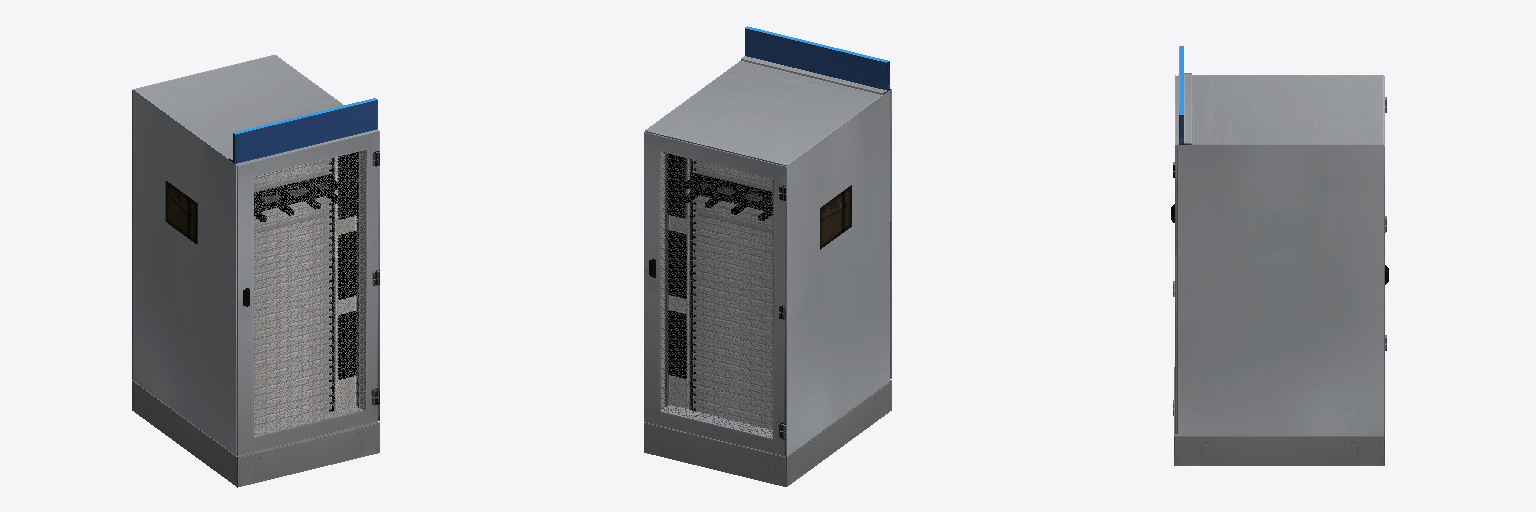
The picture shows the model from 3 angles: view 1: azimuth 30°, elevation 25°; view 2: azimuth 150°, elevation 25°; view 3: azimuth 270°, elevation 25°; orthographic projection.
Parts seen in each view (by area): view 1: SET8mainA_all; view 2: SET8mainA_all; view 3: SET8mainA_all.
Part boxes in pixels (x1,y1,x2,y2): SET8mainA_all: (132, 55, 379, 487); SET8mainA_all: (644, 26, 891, 486); SET8mainA_all: (1171, 46, 1388, 465).
Bounding box in the file's own units: 0.927 × 2.18 × 1.23.
1 materials, 1 textured.